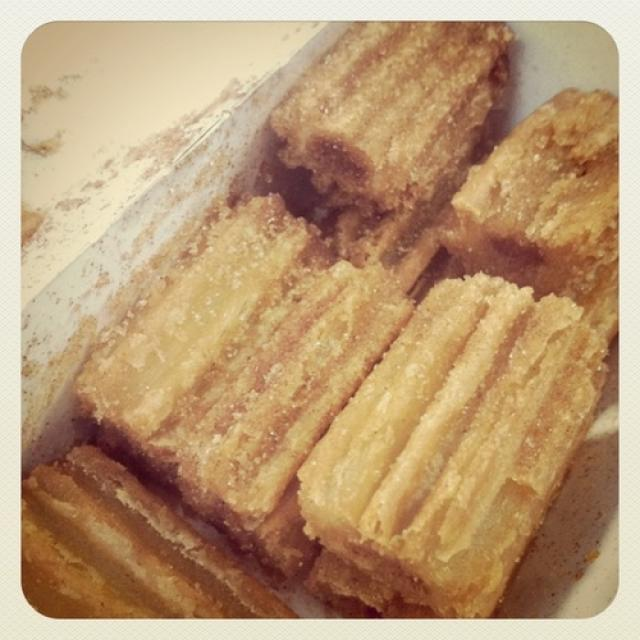炸货点心: (58, 55, 585, 599)
